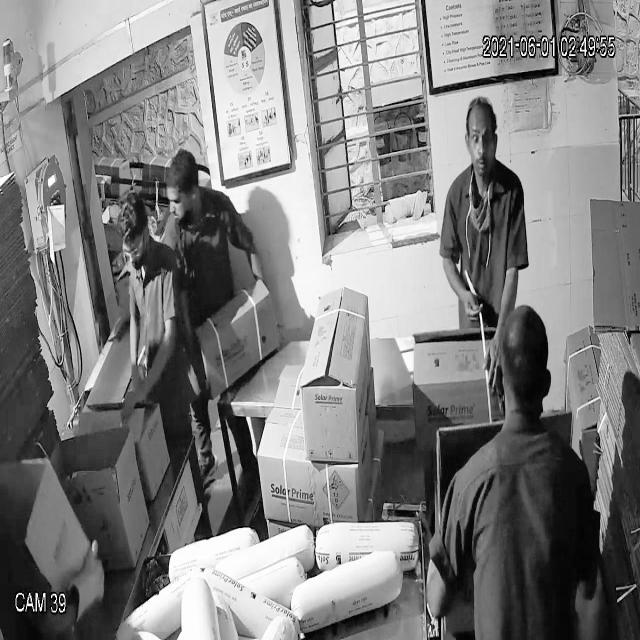glasses: (121, 231, 151, 266)
no-glass: (464, 122, 499, 156)
